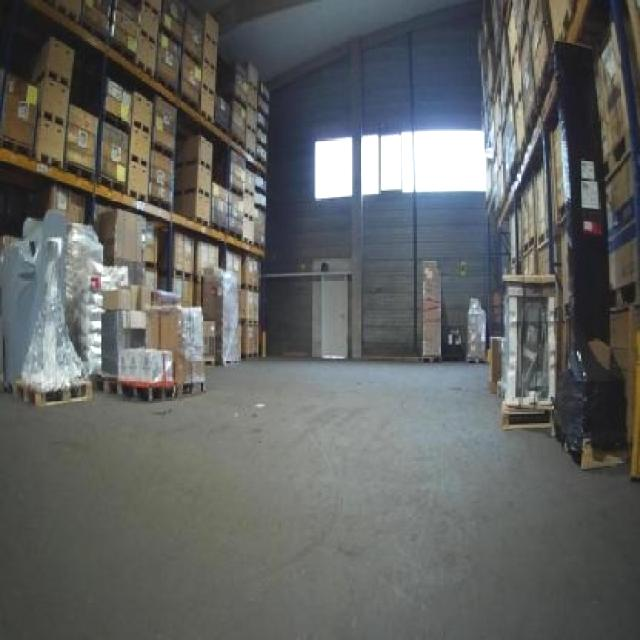floor: (0, 357, 637, 637)
